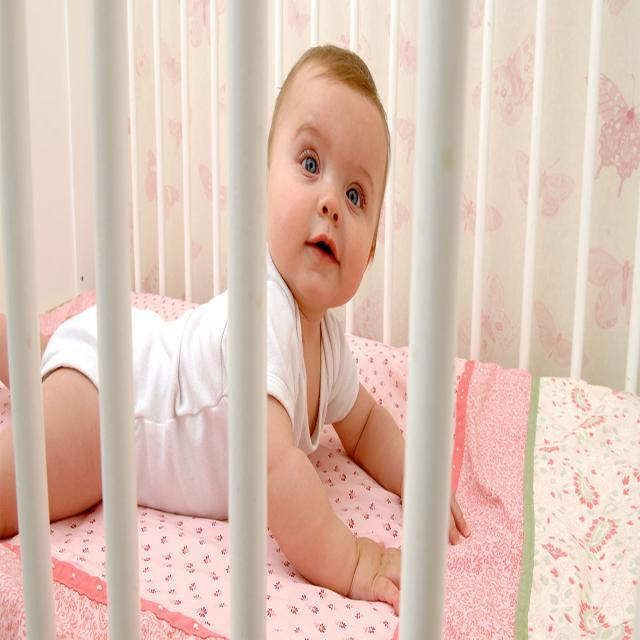non-dog: (1, 36, 478, 606)
